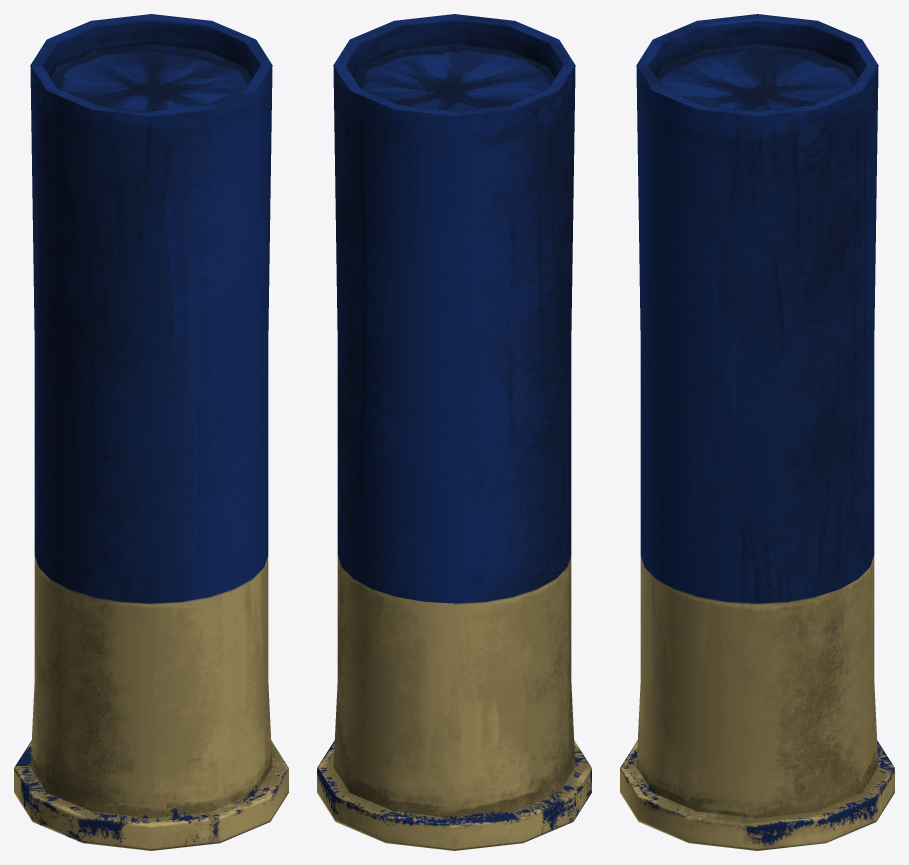
File: ShotgunSlugShell.fbx
3 views of the same model, side by side, from view 1: azimuth 30°, elevation 25°; view 2: azimuth 150°, elevation 25°; view 3: azimuth 270°, elevation 25° (orthographic).
Parts seen in each view (by area): view 1: ShotgunSlugShell; view 2: ShotgunSlugShell; view 3: ShotgunSlugShell.
Boxes of the visible parts, x1,y1,x2,y2 form: ShotgunSlugShell: [14, 14, 288, 850]; ShotgunSlugShell: [317, 14, 591, 850]; ShotgunSlugShell: [620, 14, 894, 850].
Bounding box in the file's own units: 4.36 × 12.76 × 4.36.
Materials: 1 (1 with a texture image).
